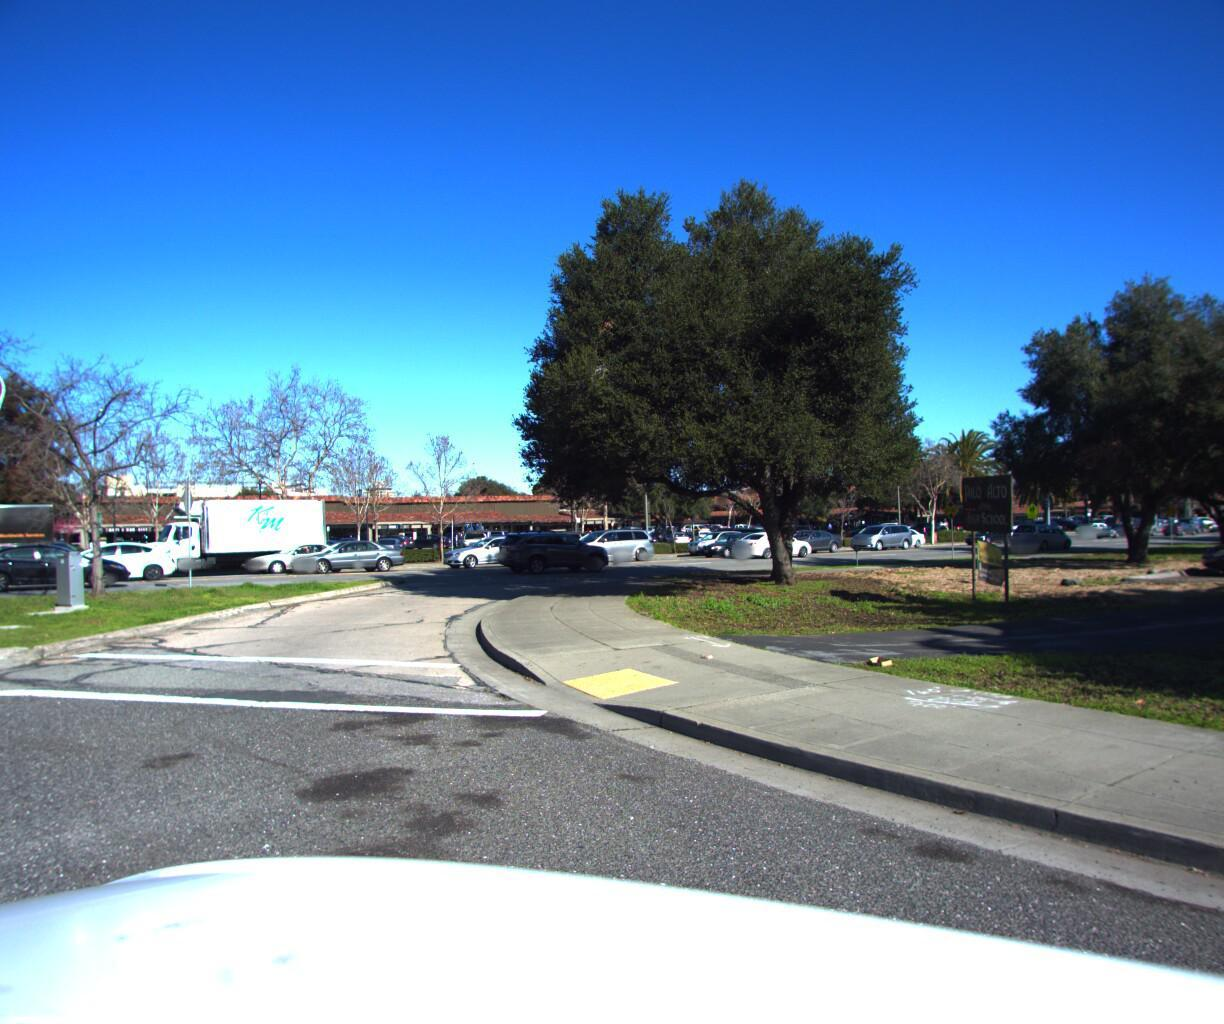car: (0, 535, 147, 593), (30, 532, 183, 579), (490, 522, 608, 570), (284, 531, 408, 568), (238, 532, 351, 569), (554, 519, 656, 558), (436, 527, 545, 562), (729, 526, 815, 556), (689, 524, 770, 553), (839, 518, 915, 545), (1007, 513, 1075, 543), (766, 523, 843, 548)
truck: (126, 486, 333, 573), (0, 494, 69, 591)
